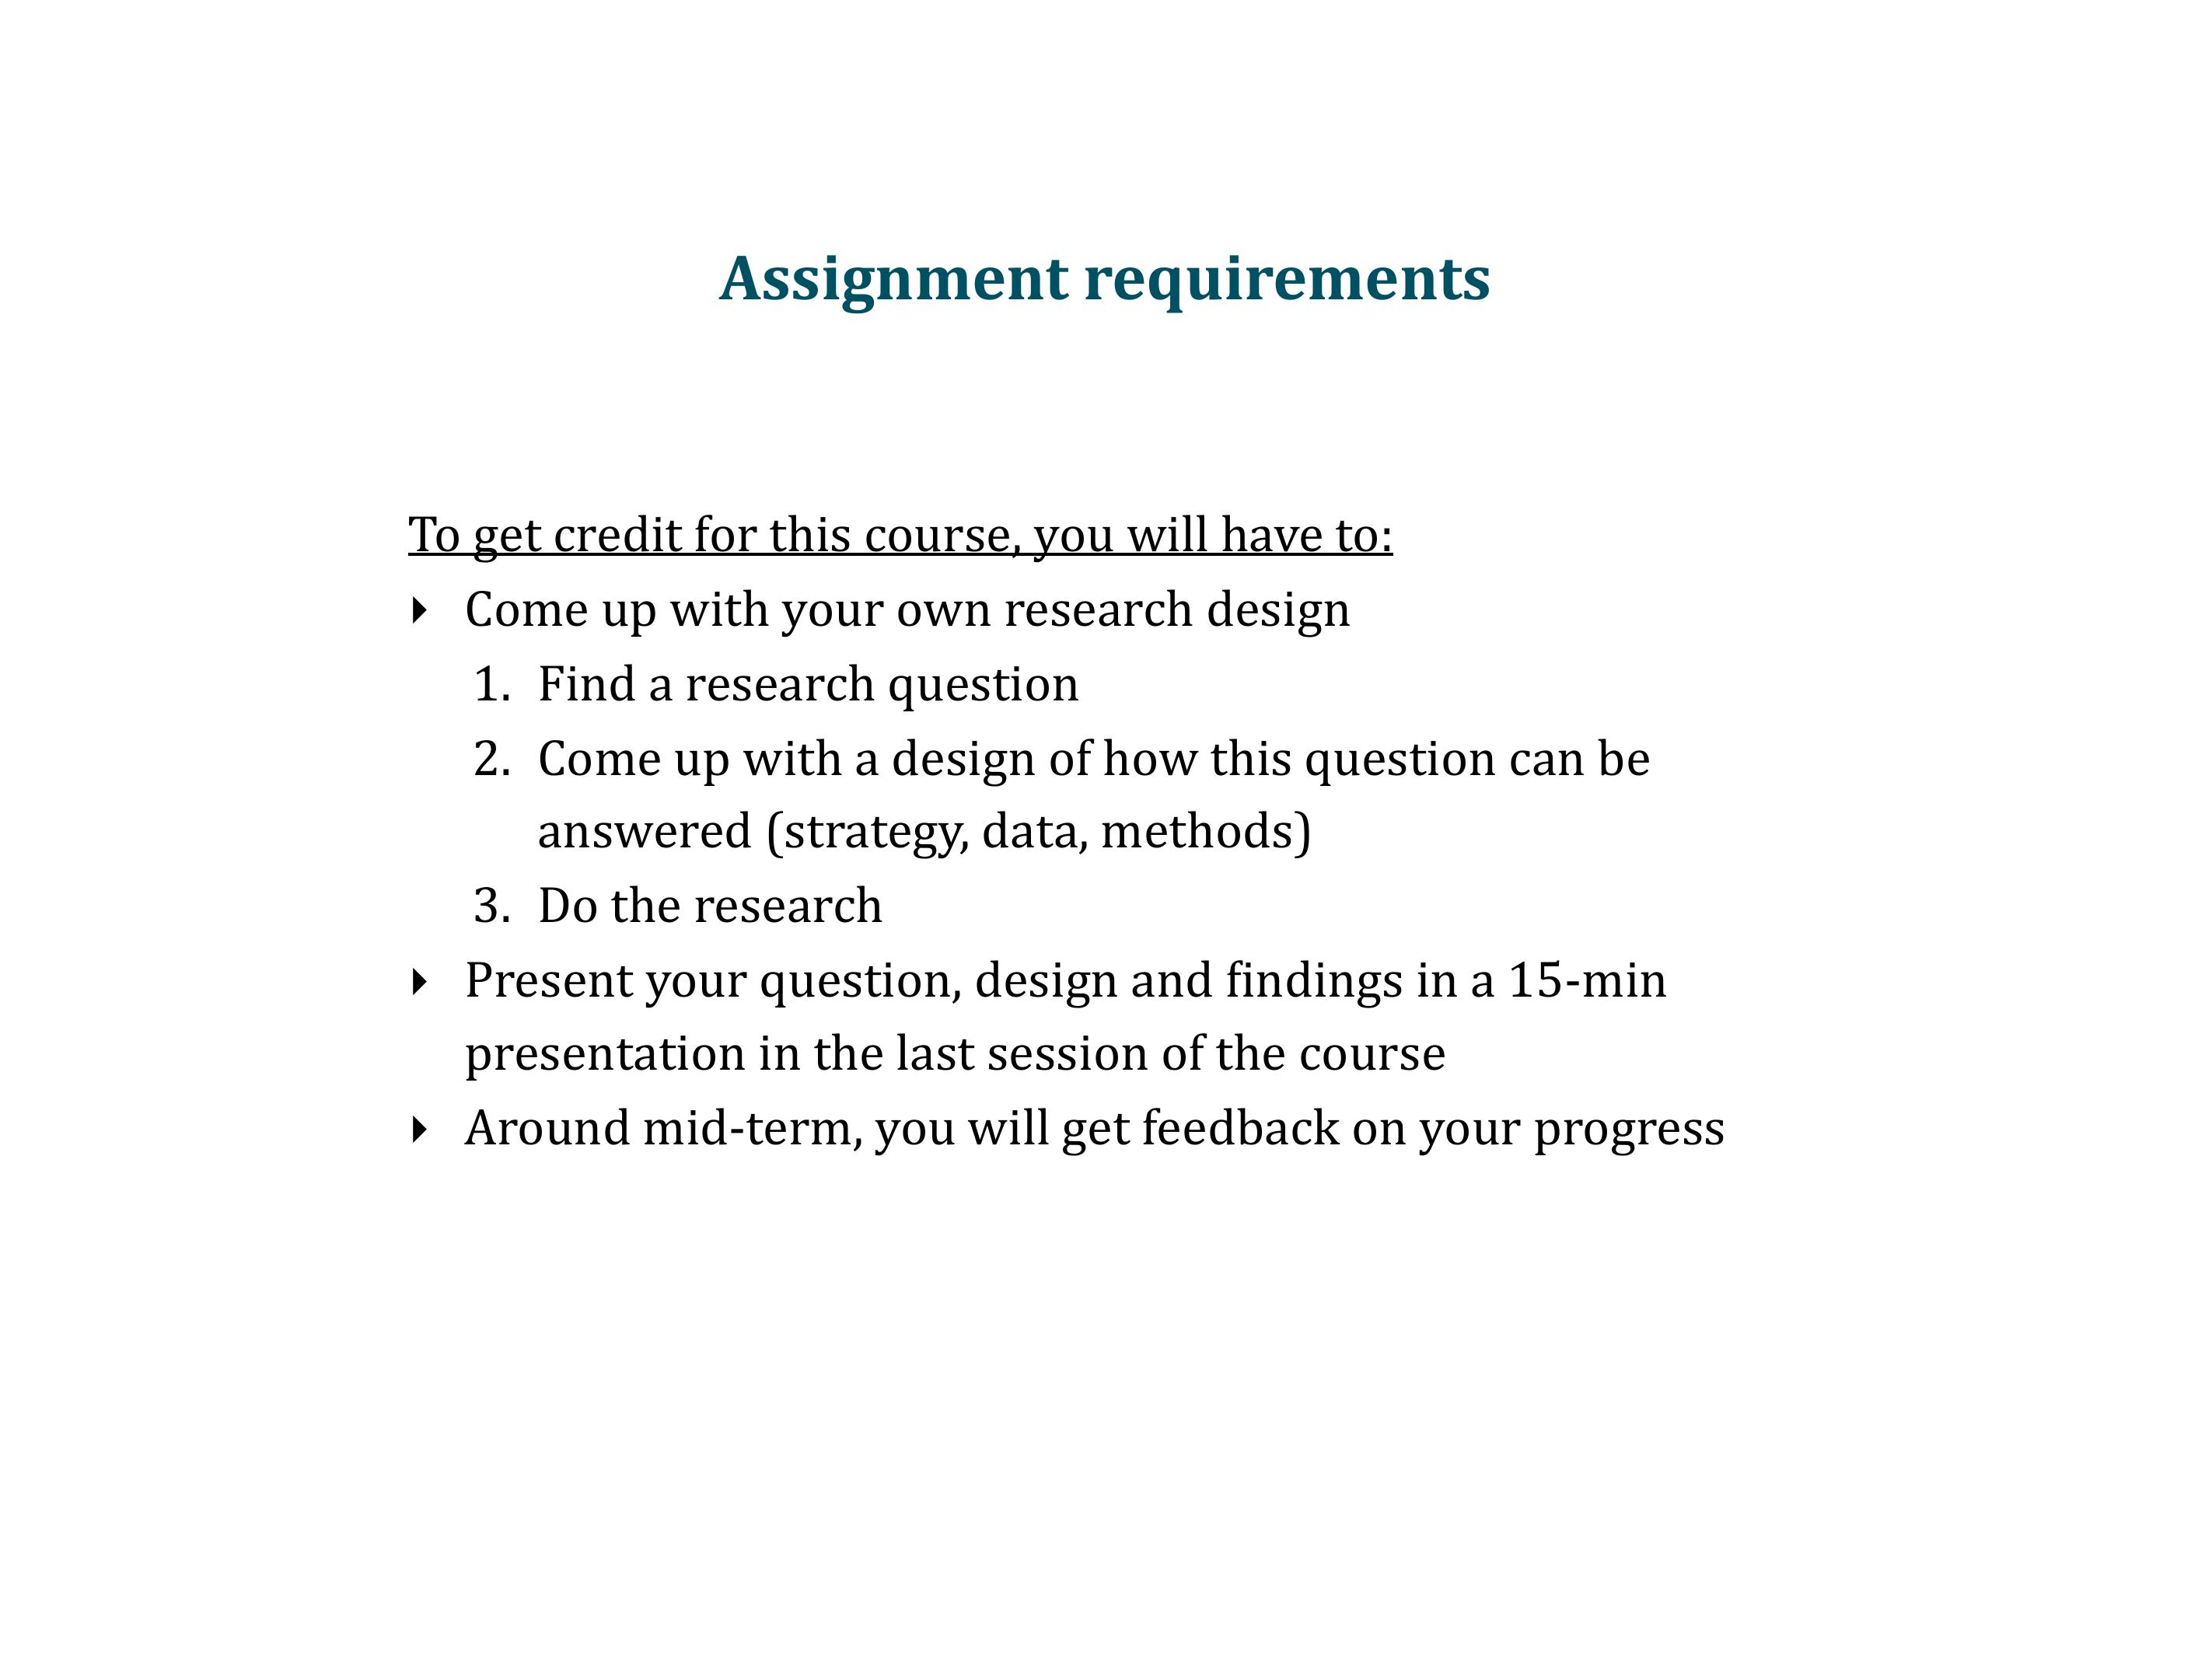Title: (699, 230, 1503, 324)
